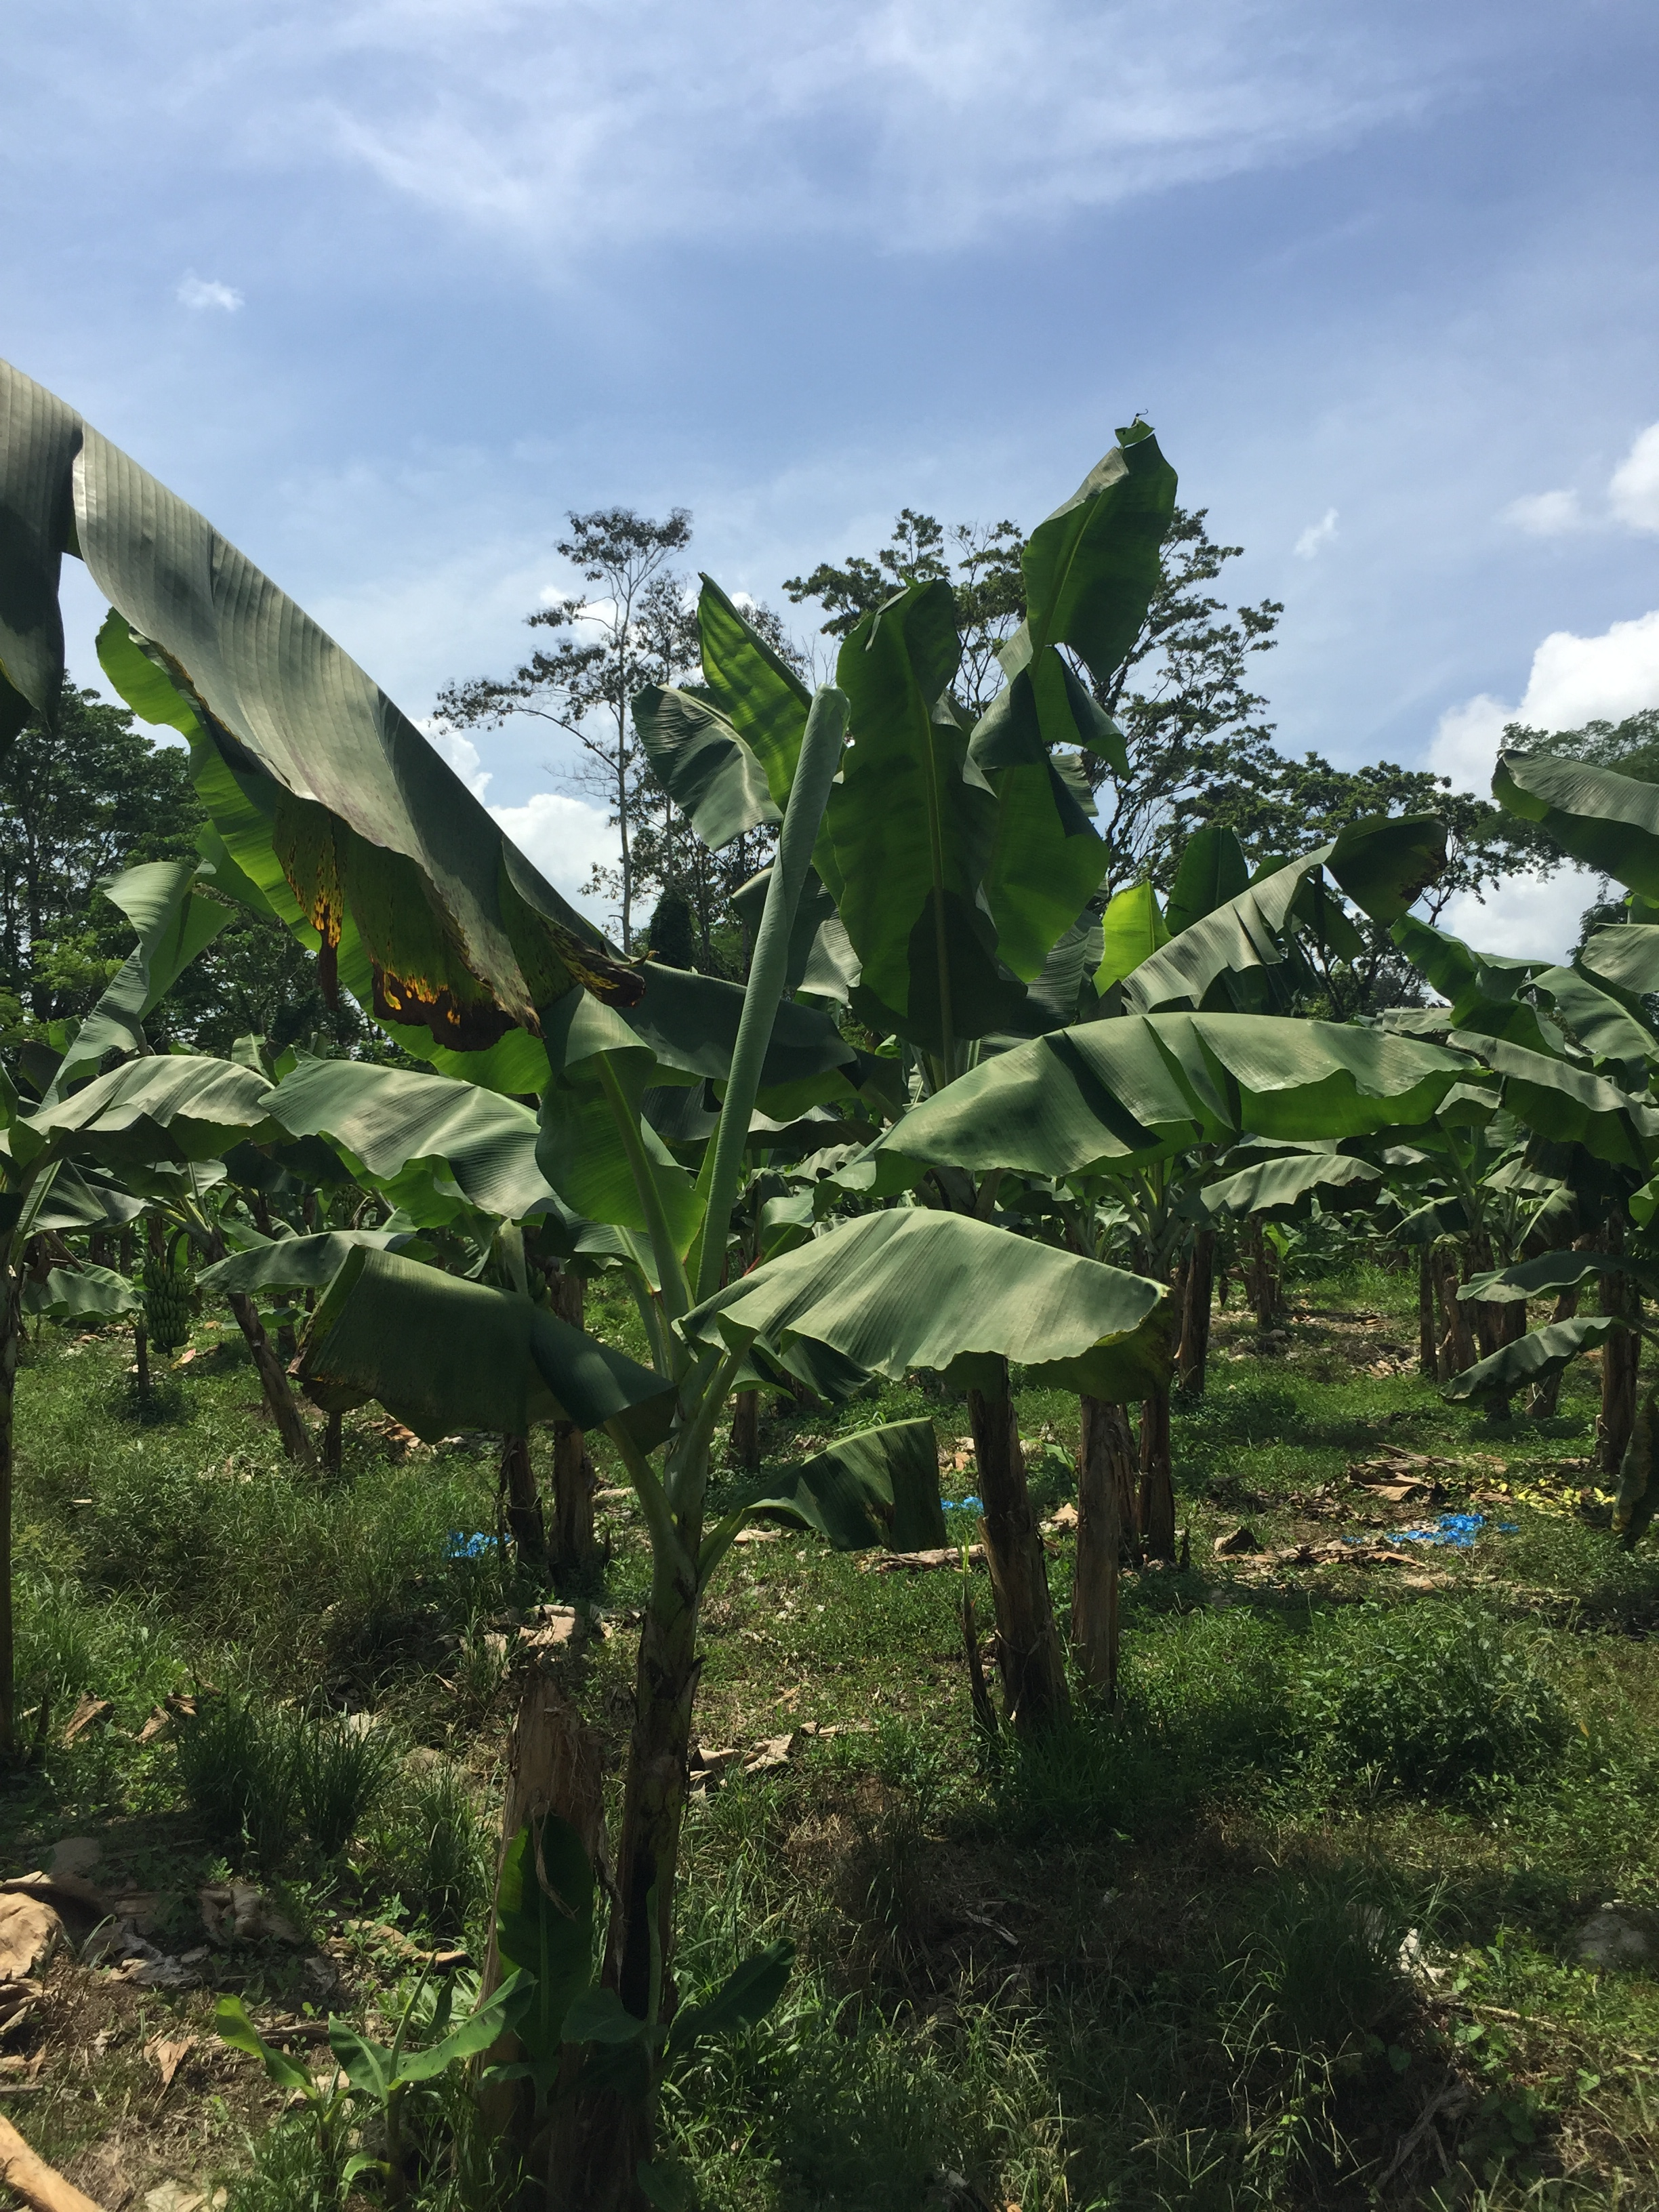candleleafs: (694, 688, 850, 1301)
